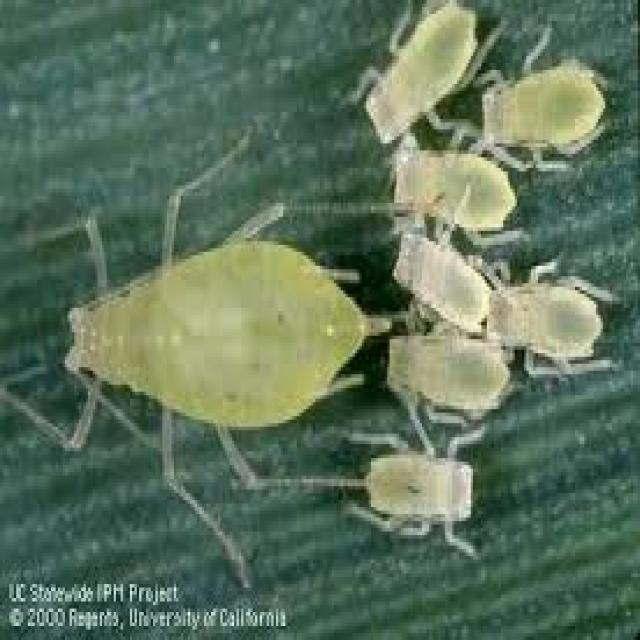Aphids: (29, 141, 369, 518), (333, 406, 502, 558), (340, 0, 496, 154), (492, 245, 626, 383), (477, 40, 609, 170)
